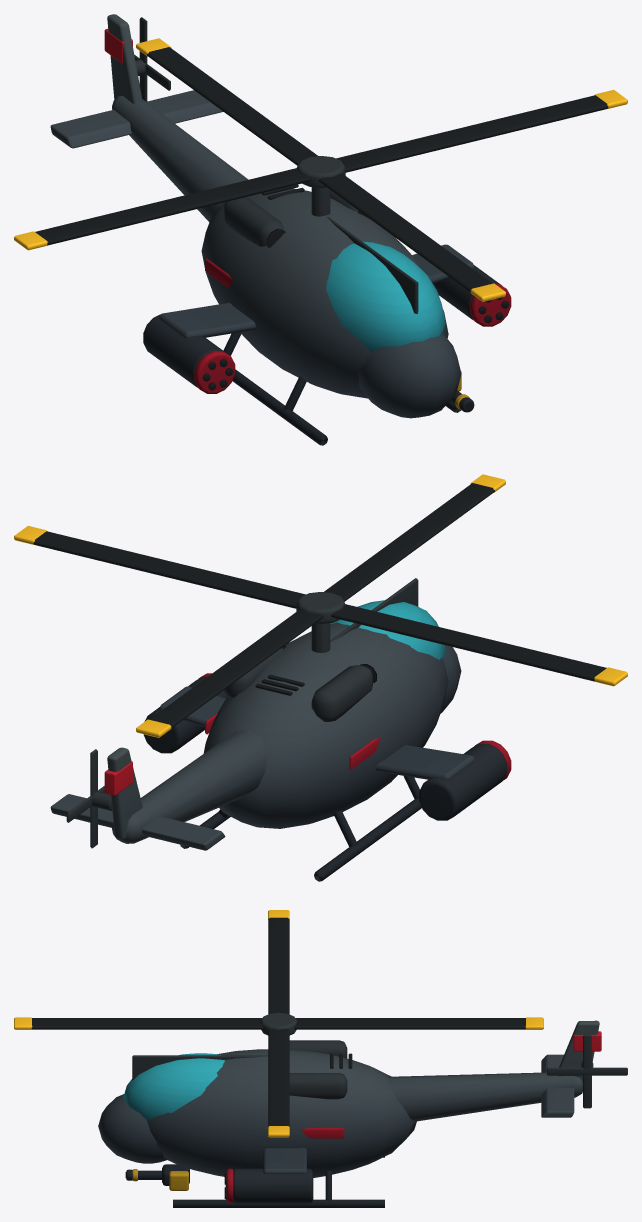
Rendered from gunship.glb.
The picture shows the model from 3 angles, top to bottom: view 1: azimuth 30°, elevation 25°; view 2: azimuth 150°, elevation 25°; view 3: azimuth 270°, elevation 25°; orthographic projection. The views are drawn at different scales.
Visible parts, largest first — view 1: Fuselage, Cockpit, Nose.003, Tail boom, Rotor blade.002, Rotor blade, Rotor blade.003, Rotor blade.001, Tail stabilizer, Rocket pod, Stub wing, Engine intake (+8 smaller); view 2: Fuselage, Tail boom, Rotor blade.002, Rotor blade, Rotor blade.001, Rotor blade.003, Rocket pod, Tail stabilizer, Stub wing, Engine intake, Cockpit, Tail fin (+10 smaller); view 3: Fuselage, Tail boom, Cockpit, Nose.003, Rotor blade.001, Rotor blade.003, Rocket pod.001, Rotor blade, Rotor blade.002, Skid.001, Engine intake.001, Tail stabilizer (+8 smaller).
Part boxes in pixels (x1,y1,x2,y2): Fuselage: (201, 188, 448, 398); Cockpit: (326, 241, 445, 351); Nose.003: (358, 332, 461, 418); Tail boom: (112, 96, 248, 222); Rotor blade.002: (35, 168, 310, 245); Rotor blade: (336, 95, 608, 172); Rotor blade.003: (318, 173, 492, 292); Rotor blade.001: (147, 47, 317, 165); Tail stabilizer: (50, 90, 223, 148); Rocket pod: (143, 314, 226, 387); Stub wing: (159, 302, 255, 338); Engine intake: (224, 197, 283, 246); Fuselage: (203, 622, 448, 828); Tail boom: (112, 731, 267, 843); Rotor blade.002: (331, 604, 606, 681); Rotor blade: (33, 531, 305, 608); Rotor blade.001: (149, 609, 323, 728); Rotor blade.003: (324, 483, 494, 601); Rocket pod: (419, 744, 506, 820); Tail stabilizer: (50, 794, 225, 850); Stub wing: (376, 745, 474, 780); Engine intake: (311, 665, 372, 721); Cockpit: (330, 600, 445, 659); Tail fin: (107, 747, 142, 839); Fuselage: (147, 1049, 416, 1177); Tail boom: (387, 1072, 582, 1121); Cockpit: (123, 1053, 224, 1120); Nose.003: (98, 1094, 167, 1163); Rotor blade.001: (294, 1018, 525, 1029); Rotor blade.003: (31, 1018, 263, 1029); Rocket pod.001: (233, 1168, 313, 1203); Rotor blade: (268, 1029, 289, 1126); Rotor blade.002: (268, 917, 289, 1014); Skid.001: (173, 1199, 384, 1207); Engine intake.001: (289, 1073, 347, 1099); Tail stabilizer: (541, 1054, 574, 1117).
Size of the model in its own units: 8.5 by 2.89 by 9.85.
Materials: 6 (5 with a texture image).
